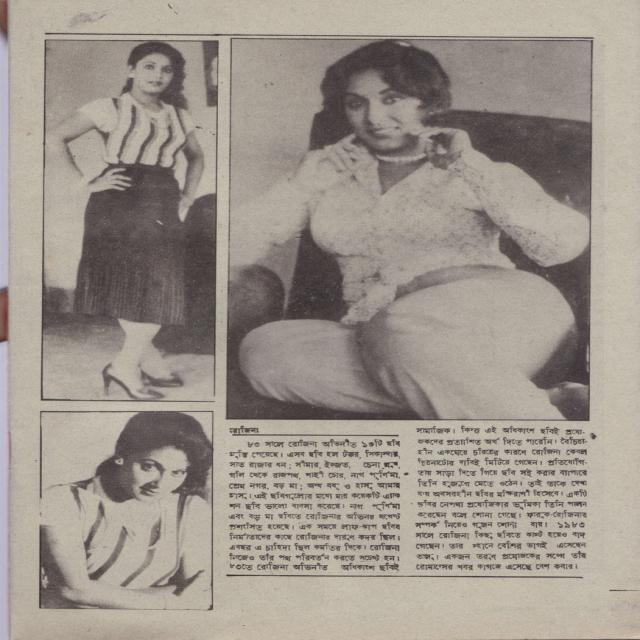image: (224, 37, 595, 423), (39, 38, 219, 403), (38, 409, 216, 612), (228, 425, 260, 434)
paragraph: (412, 424, 589, 571), (227, 438, 401, 572)
